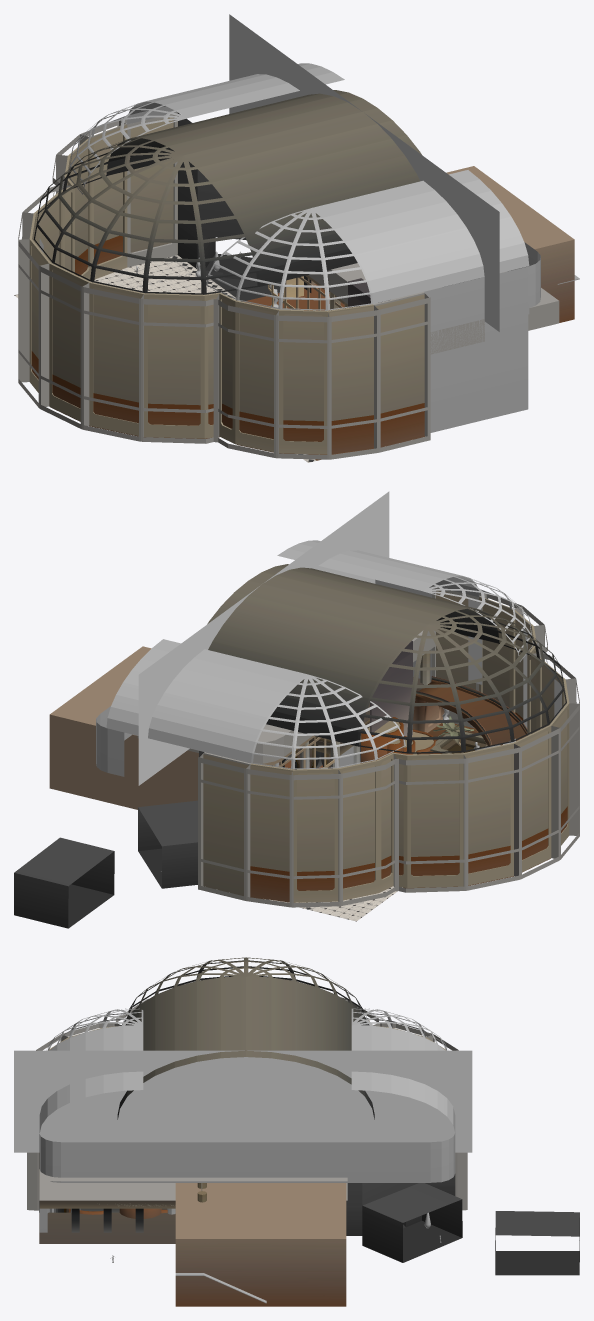
The model's file is ResturantBlockout_v5.fbx.
3 views of the same model, one above another, from view 1: azimuth 30°, elevation 25°; view 2: azimuth 150°, elevation 25°; view 3: azimuth 270°, elevation 25° (orthographic). The views are drawn at different scales.
Parts seen in each view (by area): view 1: Cylinder.021, Sphere, Sphere.002, Cylinder.038, Cylinder.004, Cylinder.026, Plane, Sphere.001, Plane.006, Cylinder.013, Plane.002, Cylinder.042 (+2 smaller); view 2: Cylinder.021, Sphere, Sphere.001, Cylinder.038, Cylinder.013, Cylinder.004, Plane.006, Plane, Sphere.002, Cylinder.012, Cube.002, Cylinder.026 (+8 smaller); view 3: Plane, Plane.006, Sphere, Cylinder.026, Cylinder.013, Sphere.001, Sphere.002, Plane.002, Cylinder.039, Cylinder.024, Cylinder.038, Cylinder.048.
Boxes of the visible parts, box(x1,y1,x2,y2) form: Cylinder.021: box(31, 117, 426, 454); Sphere: box(33, 90, 422, 294); Sphere.002: box(206, 170, 529, 310); Cylinder.038: box(18, 117, 430, 459); Cylinder.004: box(29, 112, 424, 454); Cylinder.026: box(424, 242, 540, 432); Plane: box(229, 14, 499, 331); Sphere.001: box(68, 63, 344, 194); Plane.006: box(243, 166, 574, 322); Cylinder.013: box(177, 112, 311, 301); Plane.002: box(308, 263, 559, 354); Cylinder.042: box(14, 257, 215, 297); Cylinder.021: box(202, 590, 567, 902); Sphere: box(207, 564, 566, 753); Sphere.001: box(106, 639, 405, 769); Cylinder.038: box(198, 592, 579, 907); Cylinder.013: box(14, 751, 204, 928); Cylinder.004: box(203, 586, 569, 902); Plane.006: box(49, 646, 322, 809); Plane: box(138, 491, 389, 785); Sphere.002: box(277, 540, 533, 661); Cylinder.012: box(415, 676, 527, 745); Cube.002: box(370, 641, 412, 736); Cylinder.026: box(96, 579, 431, 776); Plane: box(14, 1050, 472, 1152); Plane.006: box(175, 1183, 346, 1306); Sphere: box(117, 957, 374, 1119); Cylinder.026: box(39, 1133, 455, 1182); Cylinder.013: box(346, 1174, 579, 1275); Sphere.001: box(351, 1007, 455, 1132); Sphere.002: box(39, 1008, 143, 1132); Plane.002: box(39, 1169, 347, 1200); Cylinder.039: box(39, 1212, 175, 1243); Cylinder.024: box(39, 1153, 175, 1232); Cylinder.038: box(27, 997, 467, 1210); Cylinder.048: box(79, 1208, 167, 1218).
Bounding box in the file's own units: 21328 × 9516 × 24791.
